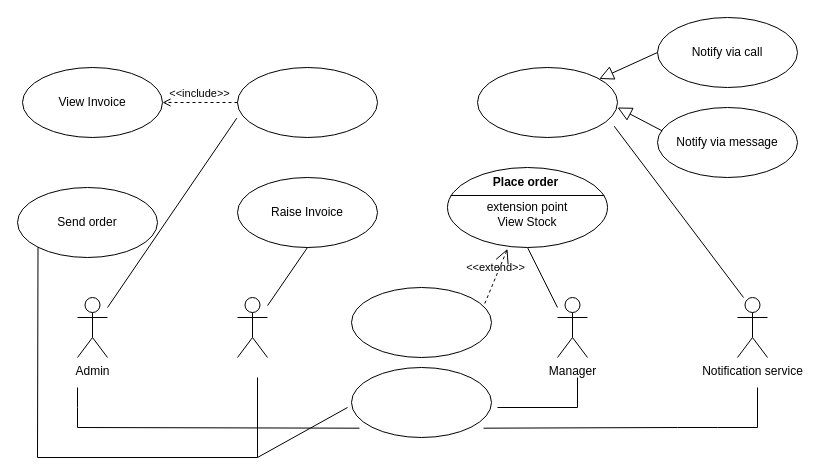
Image size: 820x476. Some labels were removed from this diagram. The shapes that lost their labels are listed below. From the top down, each one's centre as x and y in pixels, then its label:
(307,102): Pay Invoice
(547,102): Send Notification
(252,327): Supplier
(421,322): View stock
(421,402): Login
